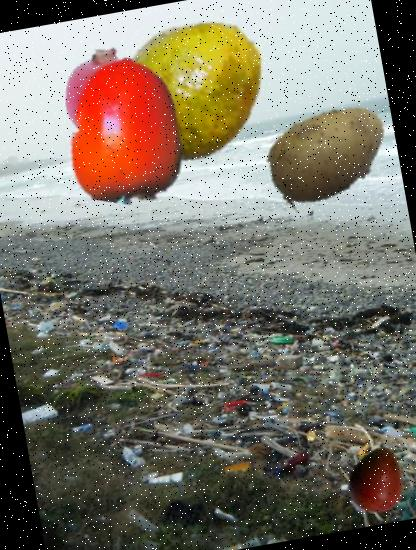Guava: (110, 1, 282, 172)
Kaki: (46, 47, 214, 215)
Mango: (336, 439, 416, 520)
Potato: (254, 78, 402, 227)
Redcurrant: (58, 40, 160, 142)
